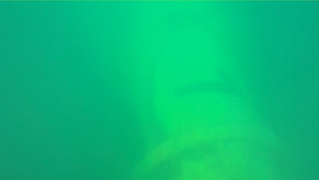1: (173, 70, 241, 99)
pipe: (108, 1, 285, 179)
